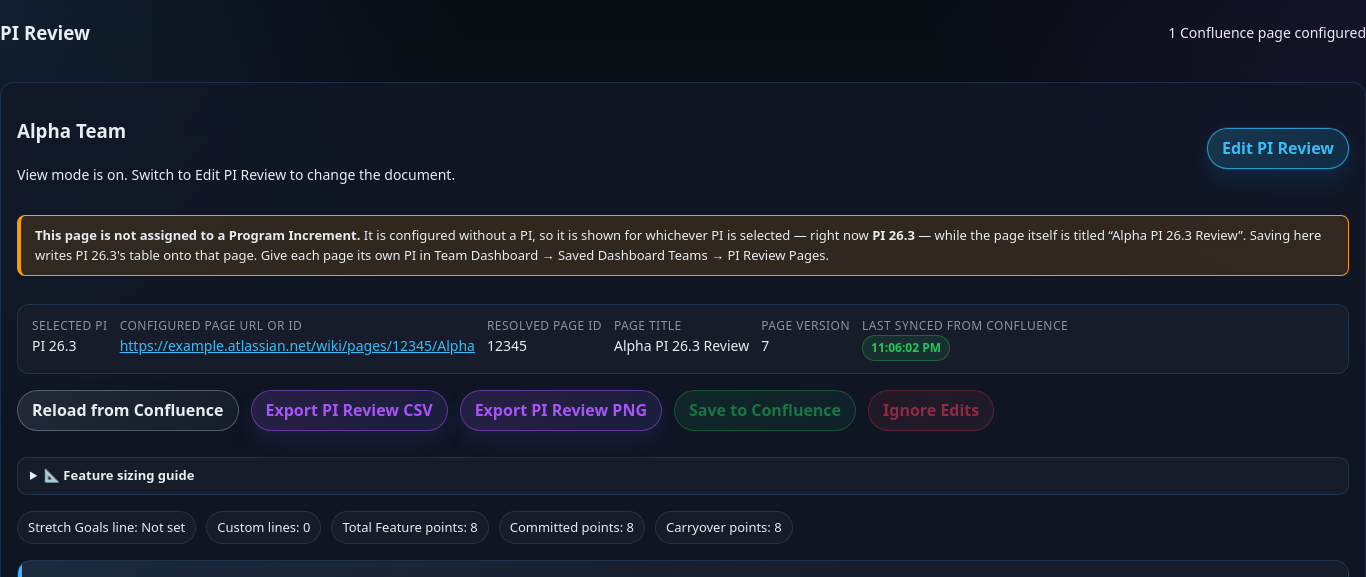
Scenario: PiReviewTab › appends a blank Feature row from the footer control beneath the table
The width and height of the screenshot is (1366, 577).
Click the button "Edit PI Review" at (1278, 149), box [1207,128,1349,169]
(page scrolled)
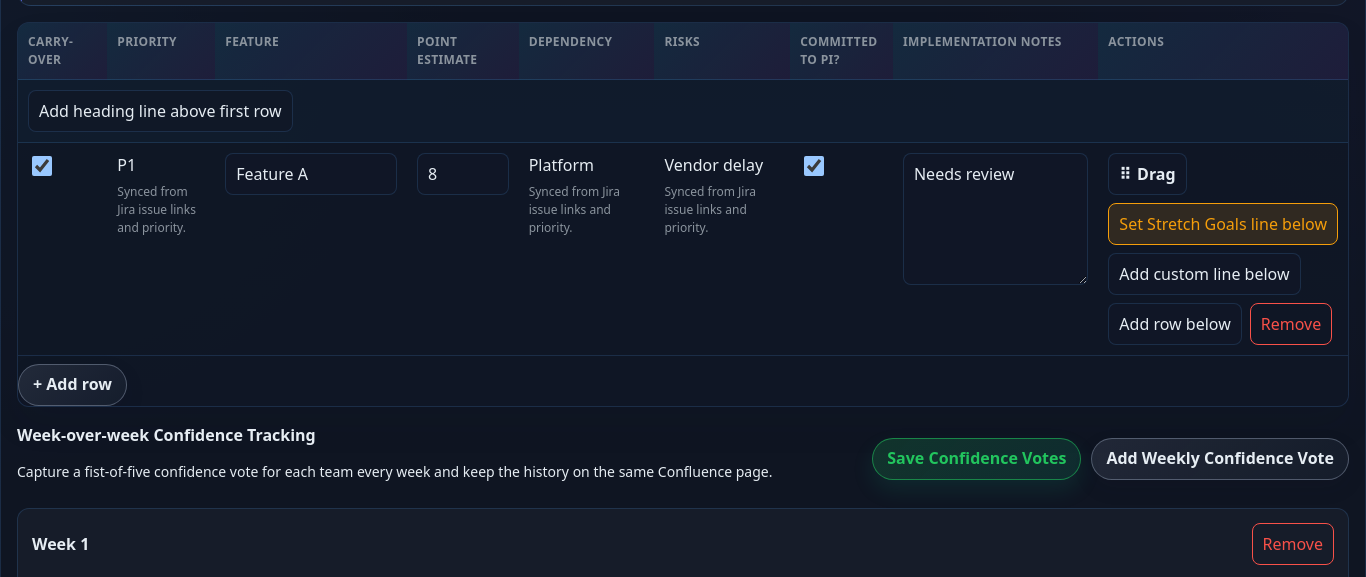
Result: the field named "feature for alpha team row 1" is shown at [225,153,397,195]
Click the button "+ Add row" at (72, 385), box [18,364,127,406]
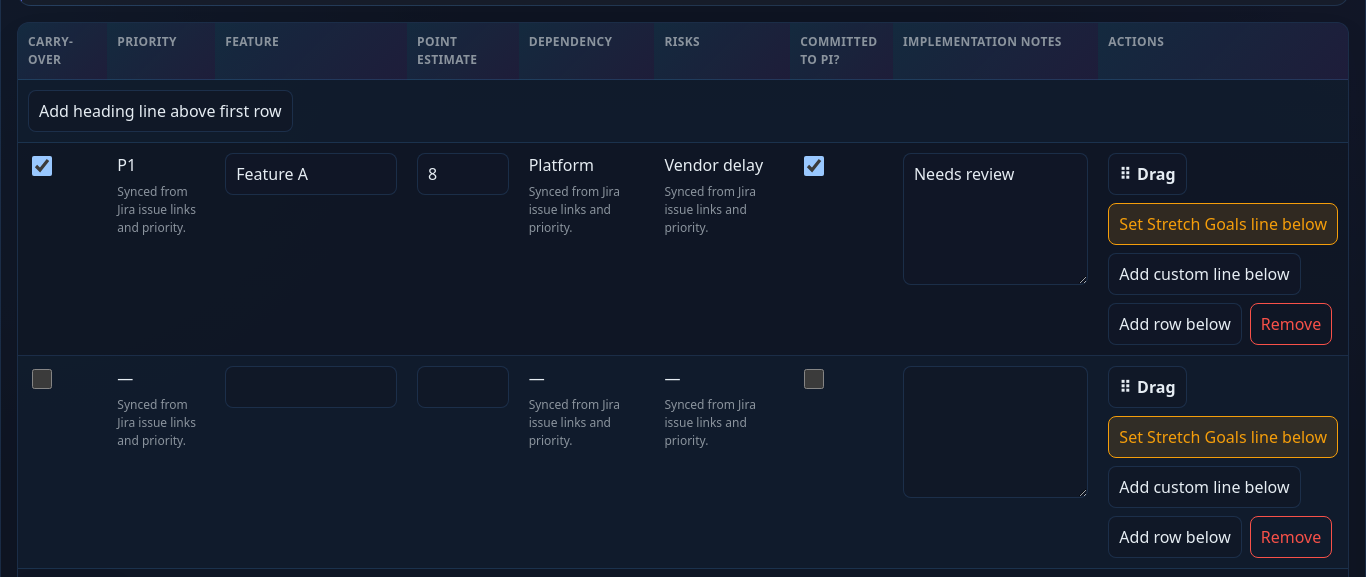
Expected: the field named "feature for alpha team row 2" is empty, [225,366,397,408]
Result: the field named "feature for alpha team row 2" is shown at [225,366,397,408]
